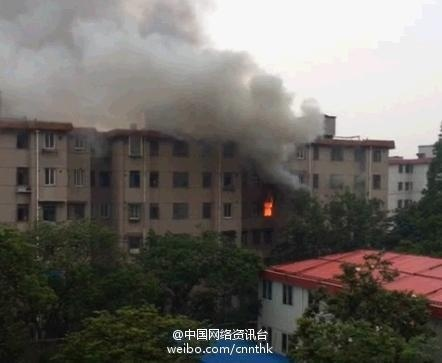fire: (261, 197, 274, 216)
